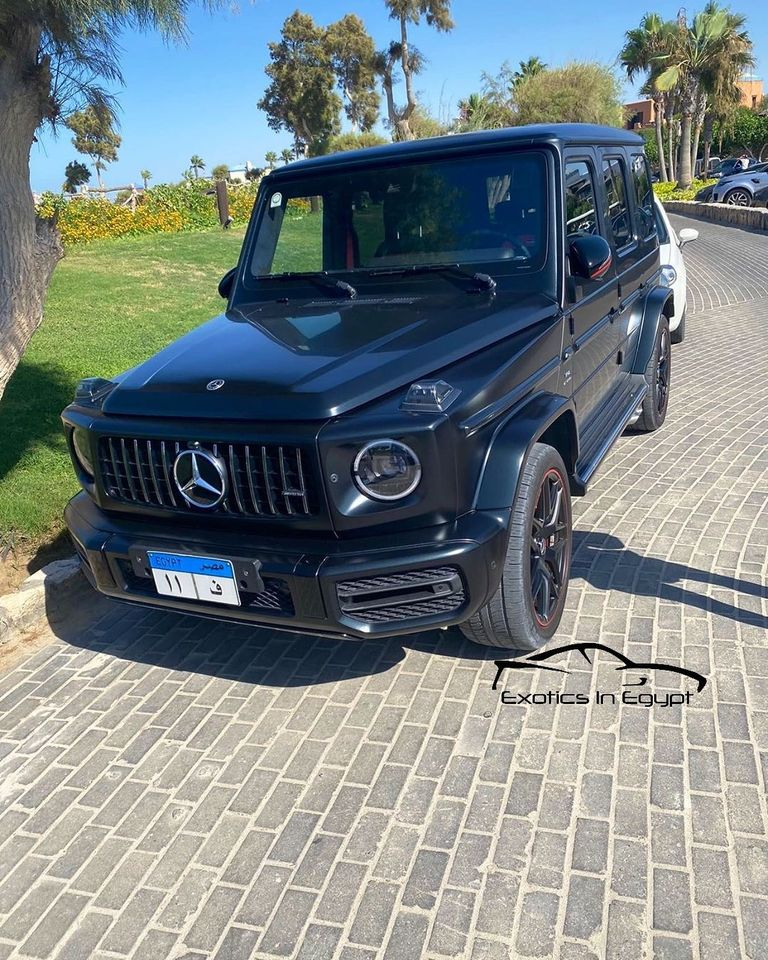carpl: (132, 552, 250, 600)
